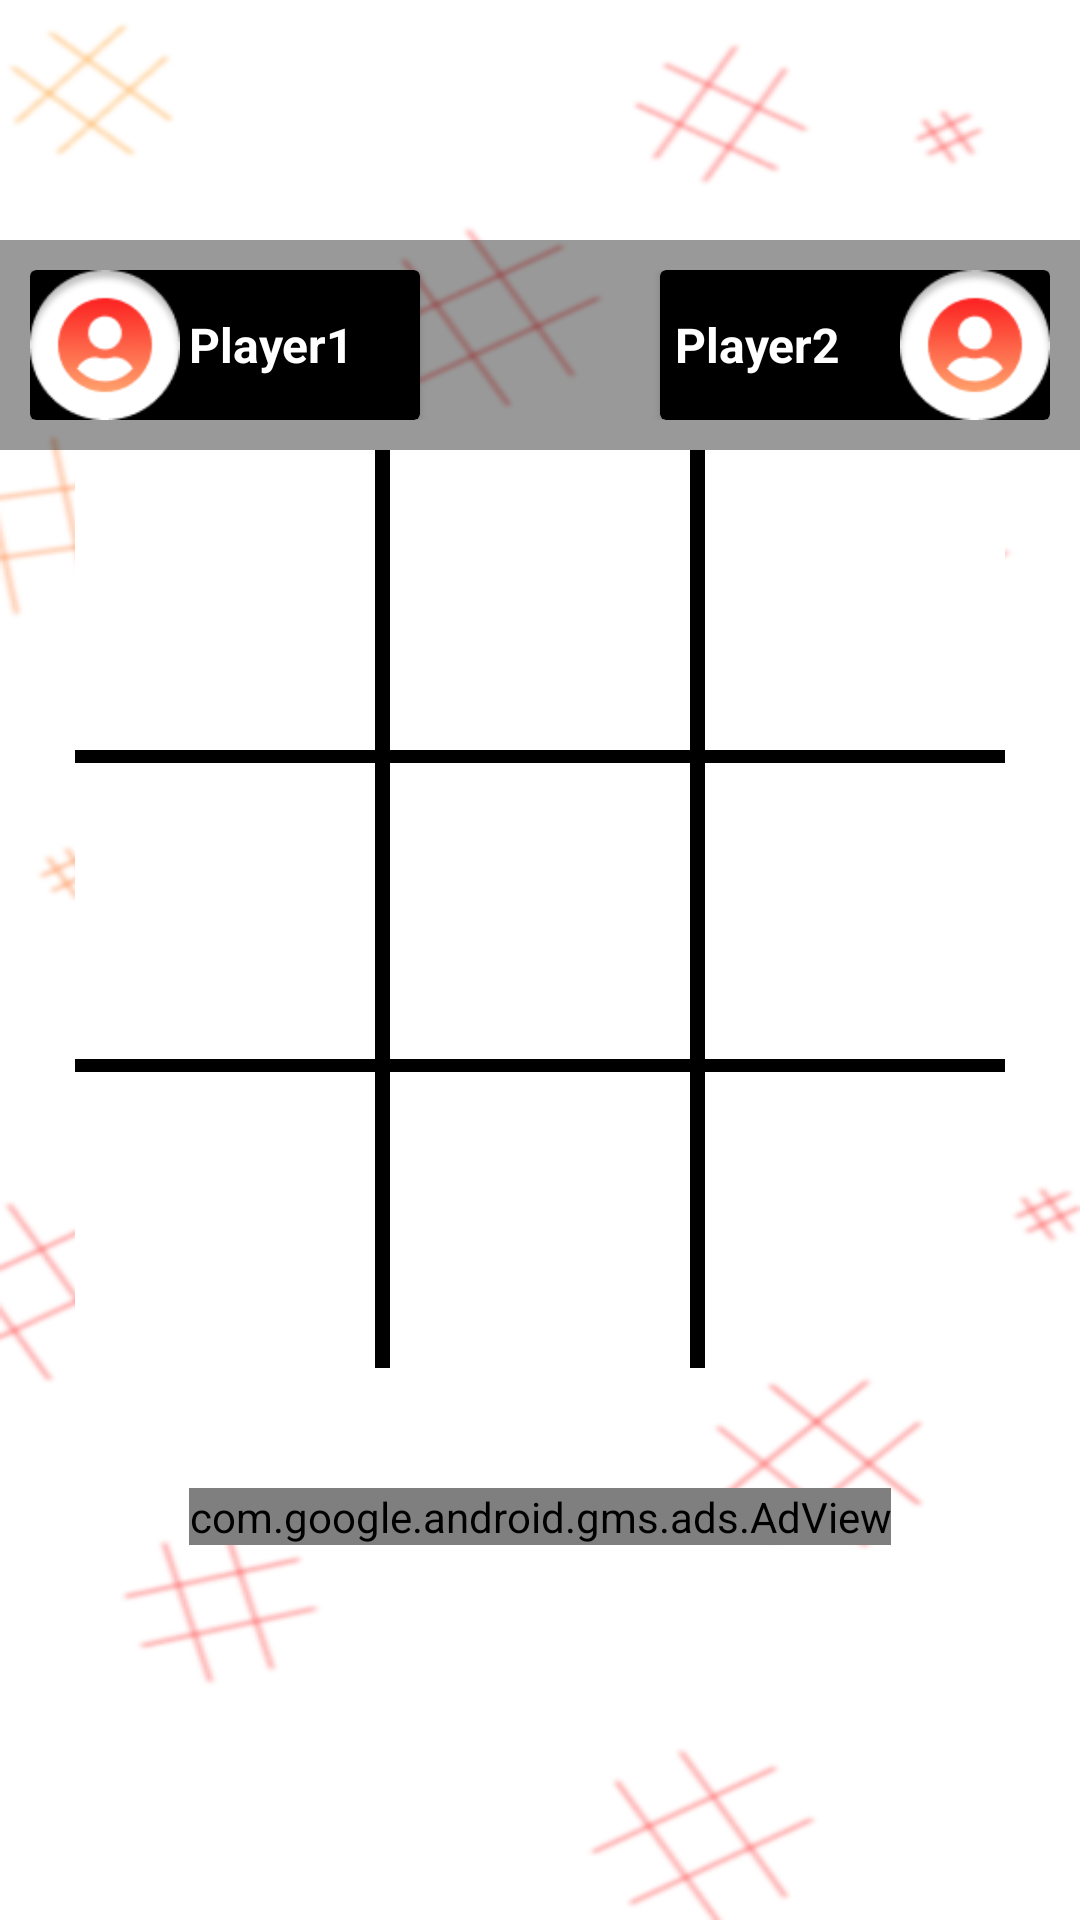

Icons on this 1080px×1920px Android screen, each with the point to tap as point (x, y):
user: point (105, 345), point (975, 345)
